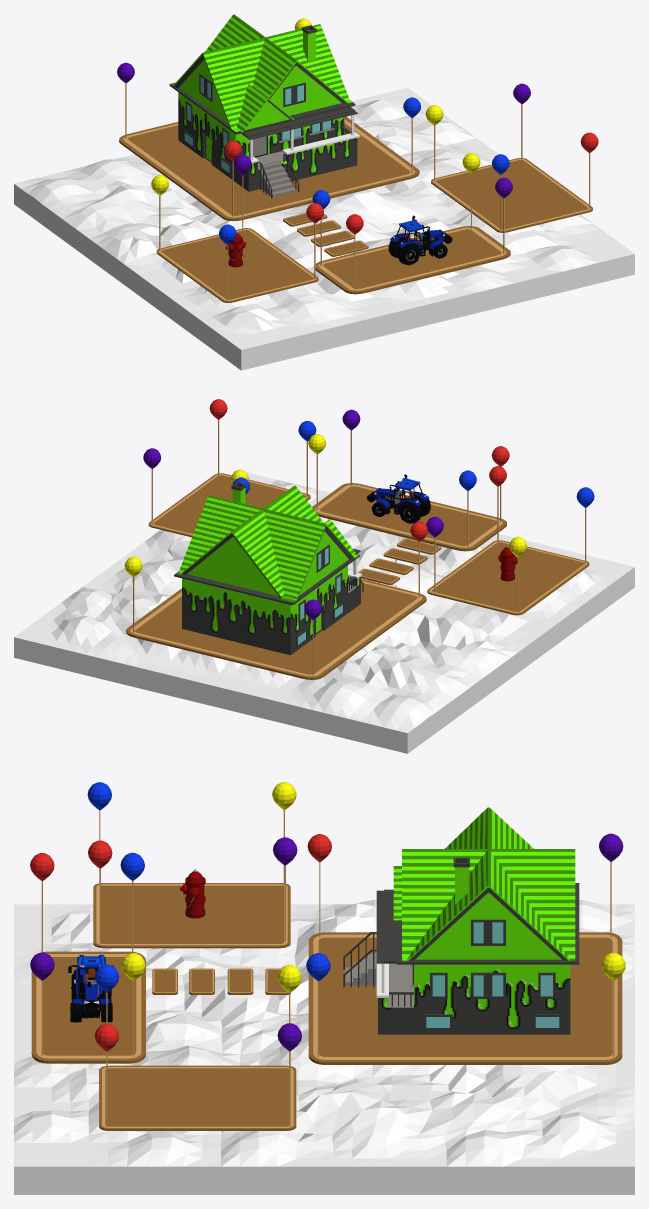
3 views of the same model, one above another, from view 1: azimuth 30°, elevation 25°; view 2: azimuth 150°, elevation 25°; view 3: azimuth 270°, elevation 25° (orthographic). The views are drawn at different scales.
Visible parts, largest first — view 1: Cube.013, Cube.754, VEHICLES_TRACTOR; view 2: Cube.013, Cube.754, VEHICLES_TRACTOR, OBJRANDOM_FIRE_HYDRANT; view 3: Cube.013, Cube.754, VEHICLES_TRACTOR, OBJRANDOM_FIRE_HYDRANT.
Part boxes in pixels (x1,y1,x2,y2): Cube.013: (14,18,634,370); Cube.754: (169,14,360,198); VEHICLES_TRACTOR: (388,215,452,265); Cube.013: (14,399,634,753); Cube.754: (174,482,363,655); VEHICLES_TRACTOR: (367,474,430,523); OBJRANDOM_FIRE_HYDRANT: (498,545,517,581); Cube.013: (14,782,634,1194); Cube.754: (343,807,579,1034); VEHICLES_TRACTOR: (68,954,113,1022); OBJRANDOM_FIRE_HYDRANT: (180,869,205,918).
Bounding box in the file's own units: 4000 × 1788 × 4000.
Materials: 26 (2 with a texture image).
